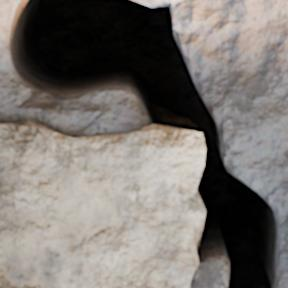brick: (0, 122, 204, 287)
broken_brick: (163, 0, 187, 3), (0, 0, 14, 4)
crack: (0, 0, 286, 287)
